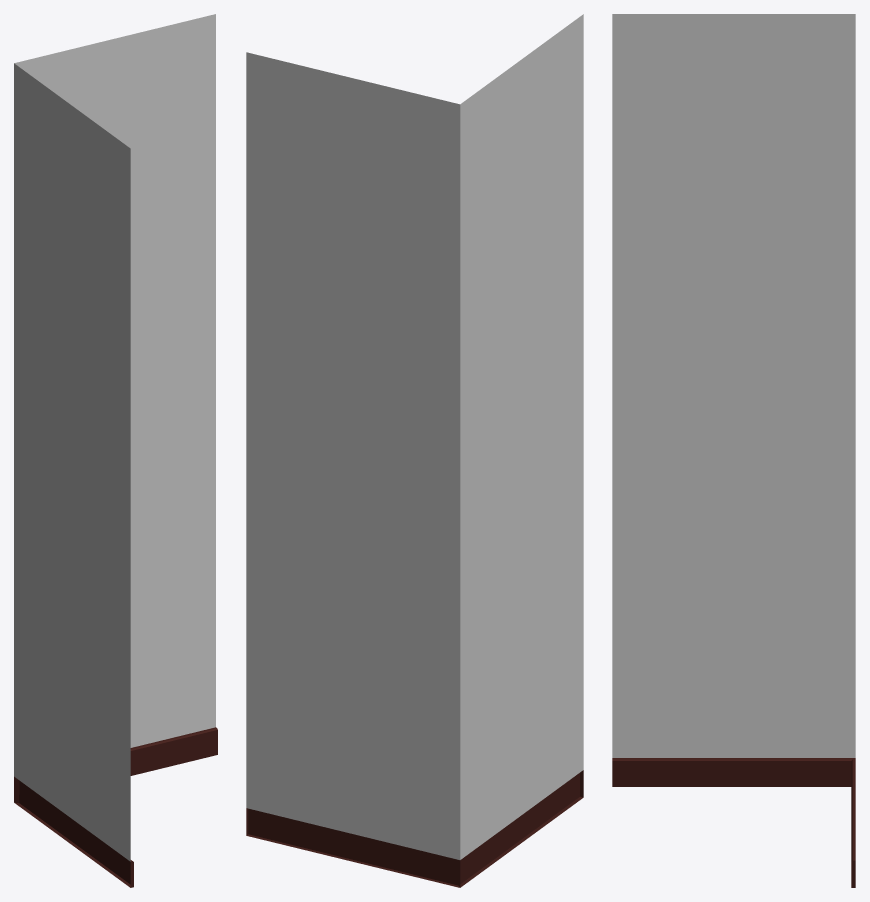
File: Hallway_Wall.017.fbx
The picture shows the model from 3 angles, left to right: view 1: azimuth 30°, elevation 25°; view 2: azimuth 150°, elevation 25°; view 3: azimuth 270°, elevation 25°; orthographic projection. The views are drawn at different scales.
Parts seen in each view (by area): view 1: Hallway_Wall.017; view 2: Hallway_Wall.017; view 3: Hallway_Wall.017.
Part boxes in pixels (x1,y1,x2,y2): Hallway_Wall.017: (14, 14, 217, 887); Hallway_Wall.017: (246, 14, 583, 887); Hallway_Wall.017: (612, 14, 855, 887).
Bounding box in the file's own units: 78.49 × 275 × 78.49.
